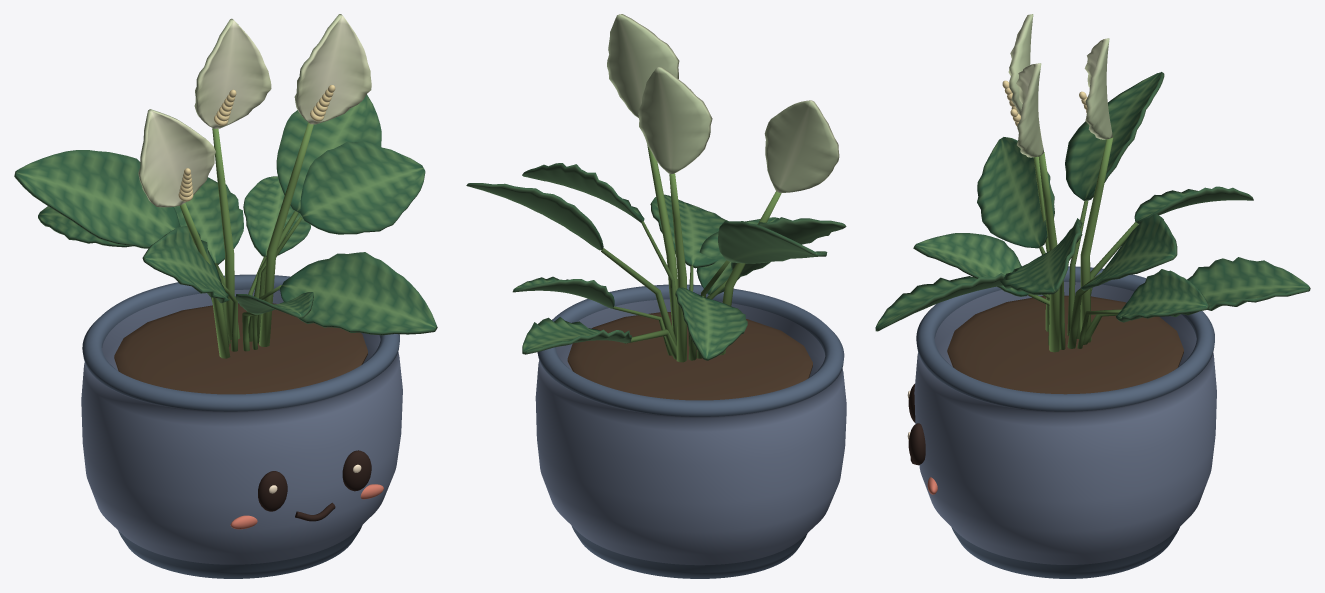
File: peace-lily-v1.glb
3 views of the same model, side by side, from view 1: azimuth 30°, elevation 25°; view 2: azimuth 150°, elevation 25°; view 3: azimuth 270°, elevation 25° (orthographic). The views are drawn at different scales.
Visible parts, largest first — view 1: Wheel-thrown ceramic, Soil, Peace Lily lamina 2, Peace Lily lamina 6, Peace Lily lamina 3, White spathe 2 glossy bract, White spathe 3 glossy bract, White spathe 1 glossy bract, Peace Lily lamina 1, Peace Lily lamina 5, Peace Lily lamina 4, Peace Lily lamina 9 (+7 smaller); view 2: Wheel-thrown ceramic, Soil, White spathe 3 glossy bract, White spathe 1 glossy bract, White spathe 2 glossy bract, Peace Lily lamina 7, Peace Lily lamina 2, Peace Lily lamina 1, Peace Lily lamina 3, Peace Lily lamina 4, Peace Lily lamina 6, Peace Lily lamina 5 (+7 smaller); view 3: Wheel-thrown ceramic, Soil, Peace Lily lamina 5, Peace Lily lamina 2, Peace Lily lamina 4, Peace Lily lamina 8, Peace Lily lamina 1, Peace Lily lamina 9, Peace Lily lamina 6, Peace Lily lamina 3, White spathe 3 glossy bract, White spathe 2 glossy bract (+6 smaller).
Boxes of the visible parts, x1=… form: Wheel-thrown ceramic: x1=81, y1=274, x2=402, y2=578; Soil: x1=114, y1=303, x2=367, y2=394; Peace Lily lamina 2: x1=14, y1=150, x2=180, y2=248; Peace Lily lamina 6: x1=300, y1=141, x2=425, y2=234; Peace Lily lamina 3: x1=280, y1=252, x2=437, y2=335; White spathe 2 glossy bract: x1=294, y1=14, x2=371, y2=124; White spathe 3 glossy bract: x1=194, y1=18, x2=271, y2=128; White spathe 1 glossy bract: x1=138, y1=109, x2=215, y2=207; Peace Lily lamina 1: x1=276, y1=94, x2=381, y2=213; Peace Lily lamina 5: x1=142, y1=226, x2=229, y2=303; Peace Lily lamina 4: x1=174, y1=177, x2=243, y2=264; Peace Lily lamina 9: x1=243, y1=176, x2=310, y2=256; Wheel-thrown ceramic: x1=535, y1=284, x2=846, y2=578; Soil: x1=567, y1=312, x2=812, y2=400; White spathe 3 glossy bract: x1=638, y1=67, x2=712, y2=173; White spathe 1 glossy bract: x1=764, y1=100, x2=839, y2=193; White spathe 2 glossy bract: x1=607, y1=14, x2=679, y2=117; Peace Lily lamina 7: x1=675, y1=287, x2=747, y2=360; Peace Lily lamina 2: x1=718, y1=221, x2=827, y2=263; Peace Lily lamina 1: x1=466, y1=183, x2=603, y2=250; Peace Lily lamina 3: x1=650, y1=194, x2=728, y2=268; Peace Lily lamina 4: x1=522, y1=317, x2=631, y2=354; Peace Lily lamina 6: x1=522, y1=163, x2=644, y2=222; Peace Lily lamina 5: x1=731, y1=217, x2=846, y2=277; Wheel-thrown ceramic: x1=914, y1=266, x2=1216, y2=578; Soil: x1=947, y1=295, x2=1183, y2=394; Peace Lily lamina 5: x1=977, y1=137, x2=1054, y2=248; Peace Lily lamina 2: x1=1065, y1=72, x2=1164, y2=200; Peace Lily lamina 4: x1=1171, y1=257, x2=1310, y2=316; Peace Lily lamina 8: x1=913, y1=233, x2=1028, y2=296; Peace Lily lamina 1: x1=1081, y1=214, x2=1177, y2=290; Peace Lily lamina 9: x1=1116, y1=269, x2=1209, y2=322; Peace Lily lamina 6: x1=1000, y1=218, x2=1082, y2=295; Peace Lily lamina 3: x1=875, y1=273, x2=1004, y2=331; White spathe 3 glossy bract: x1=1084, y1=38, x2=1112, y2=139; White spathe 2 glossy bract: x1=1016, y1=63, x2=1043, y2=157.
Size of the model in its own units: 2.05 by 2.78 by 2.15.
